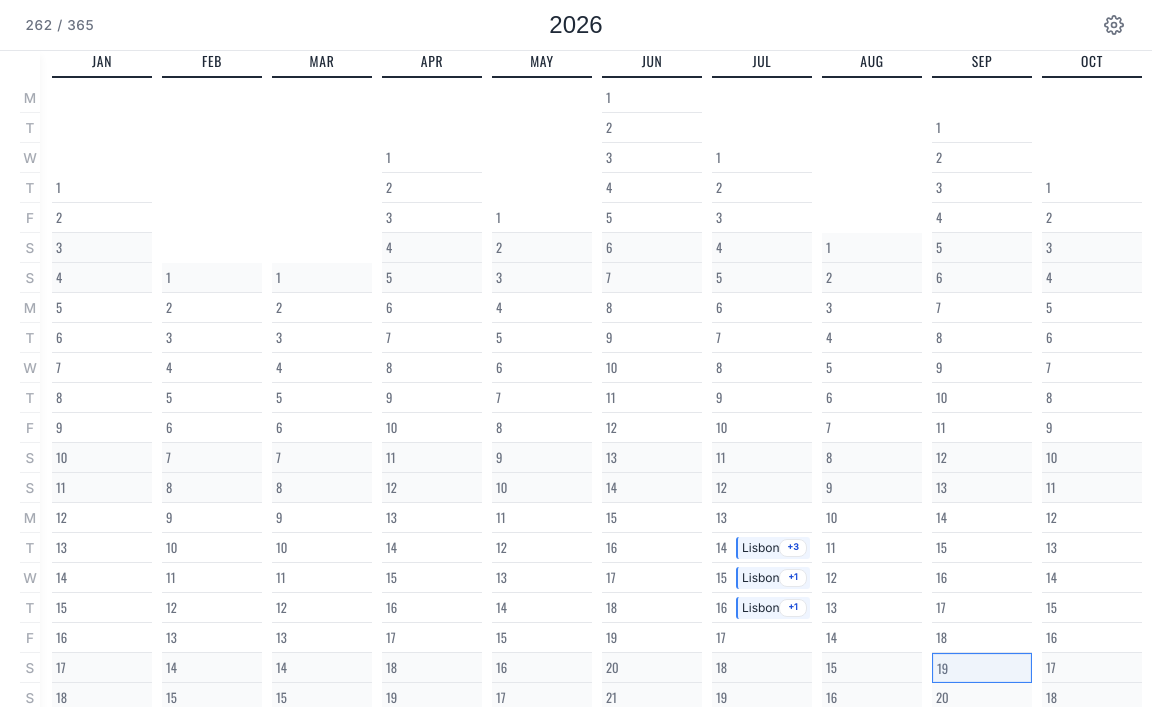
Calendy read-only planner › with a calendar already selected › hands the open hover card directly to another occupied day
Hover over the button named "4 events on 14 Jul" at (773, 548), box [736, 536, 810, 558]
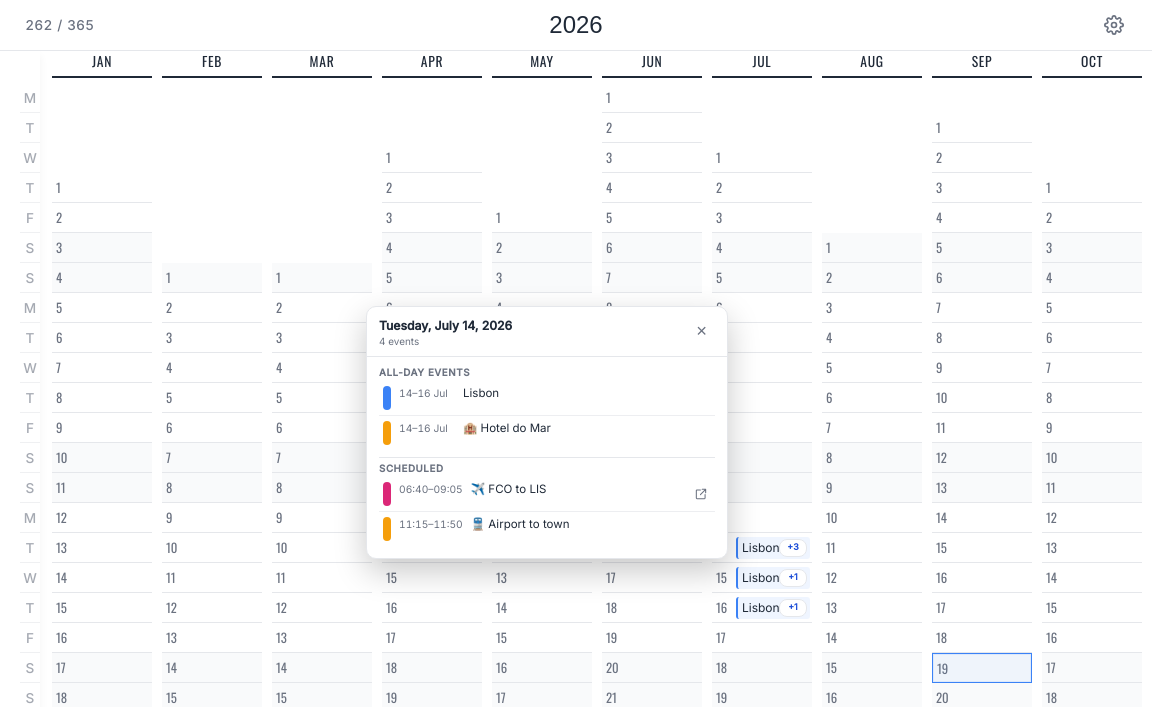
Result: the text "🏨 Hotel do Mar" is shown at [463, 421, 551, 435]
Hover over the button named "1 event on 20 Jul" at (762, 386), box [712, 371, 812, 400]
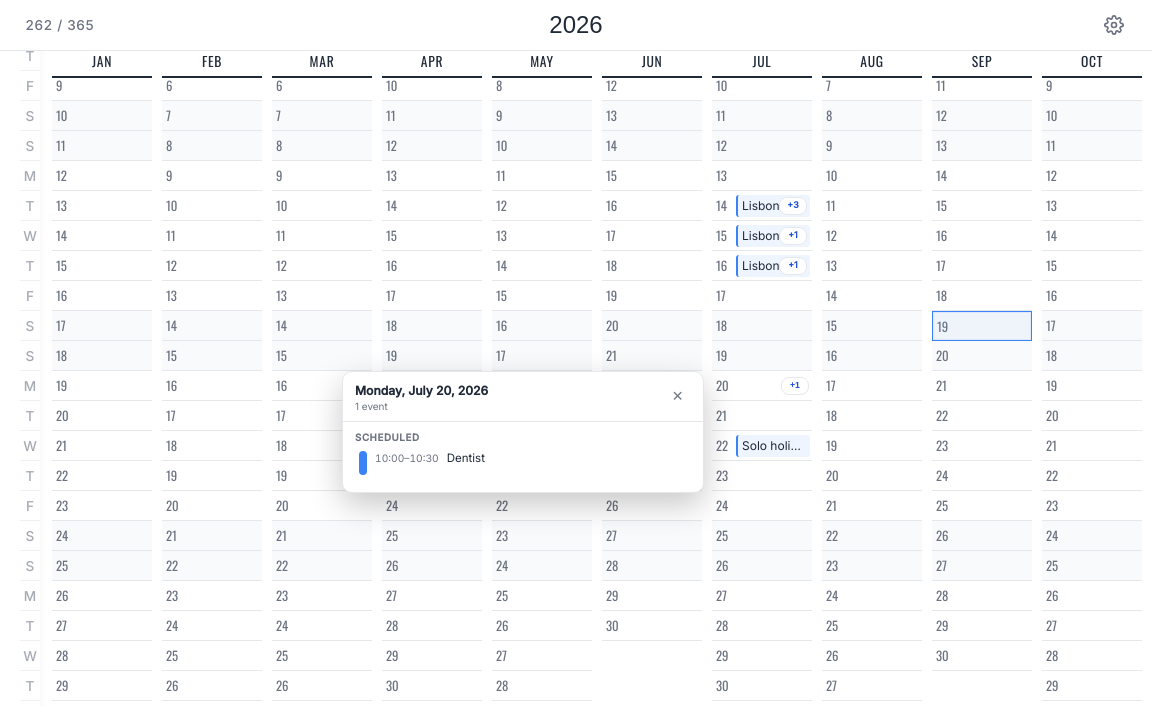
Result: the text "Dentist" is shown at [447, 451, 485, 465]
Result: the button "🏨 Hotel do Mar" is gone
